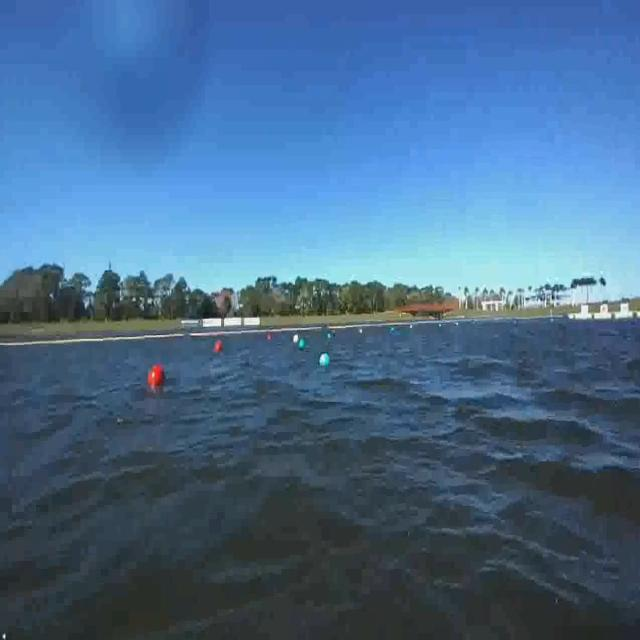green-buoy: (314, 348, 334, 371)
red-buoy: (143, 359, 167, 393)
